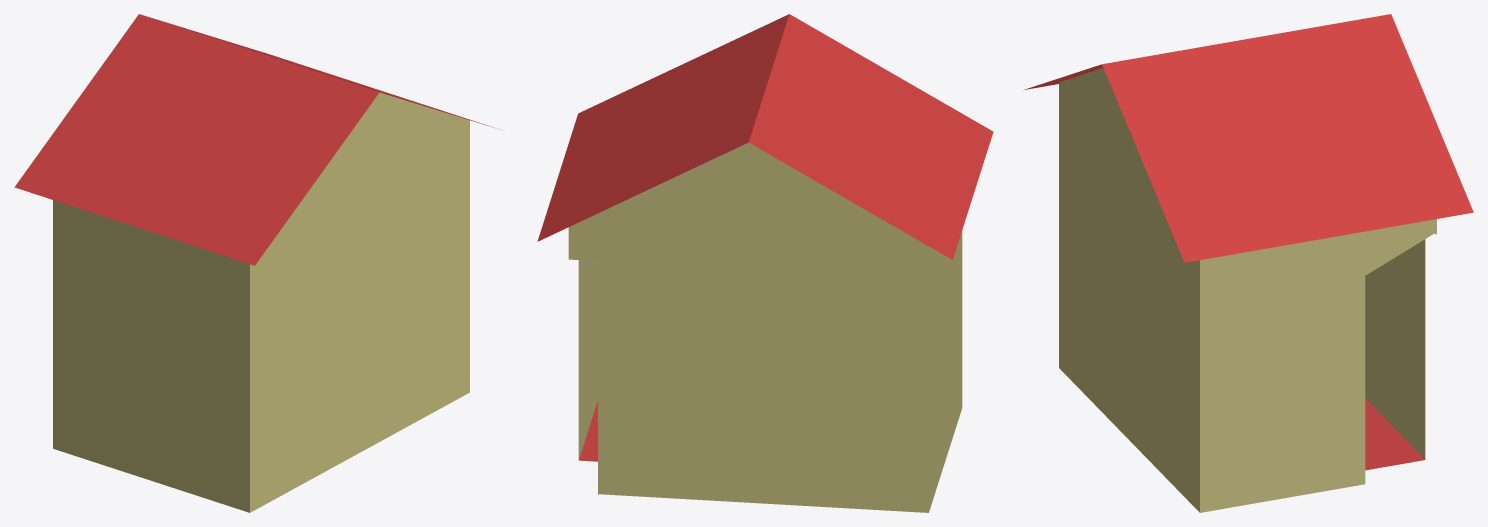
3 renders of one model, left to right at view 1: azimuth 30°, elevation 25°; view 2: azimuth 150°, elevation 25°; view 3: azimuth 270°, elevation 25°, orthographic. The views are drawn at different scales.
Bounding box in the file's own units: 13.61 × 11.95 × 11.08.
